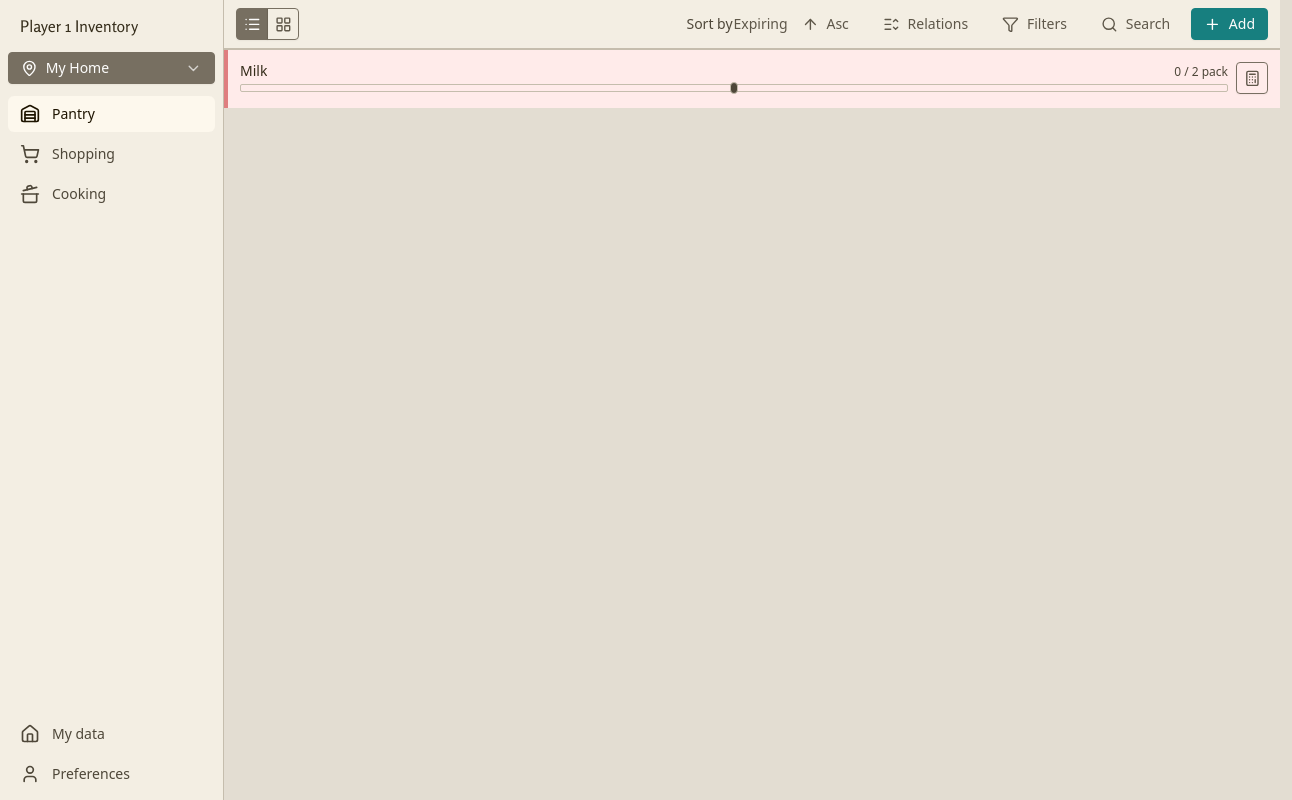
Home page filtering integration › user sees a no-match message, not a blank list, when the pantry HAS items and a filter excludes every one
This screenshot has width=1292, height=800.
expect the heading "Milk" is shown: met, box [240,62,267,80]
# When the user turns on the Vegetables filter, which no item matches
Step 1. Click the button with aria-label "toggle filters" → [1035, 24], box [989,8,1080,40]
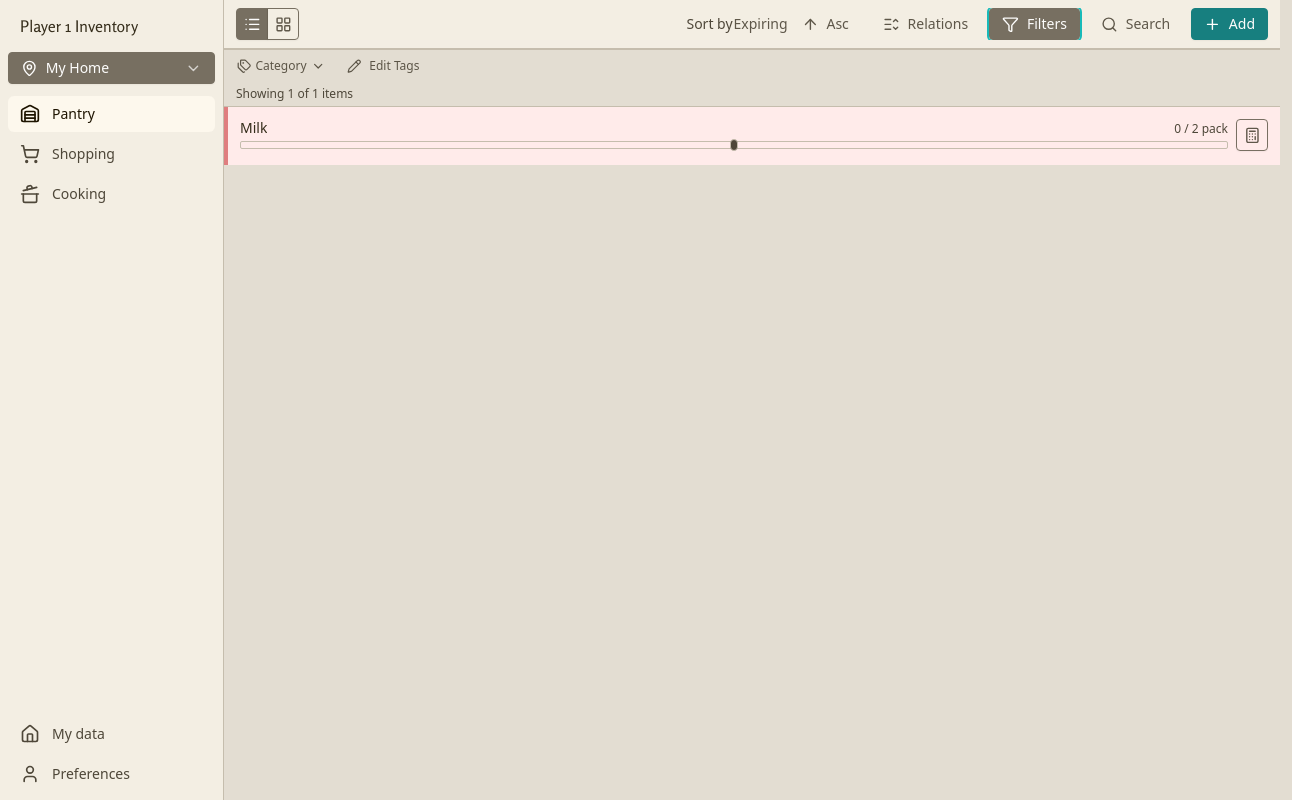
Step 2. Click the button "Category" → [281, 66], box [228,54,334,78]
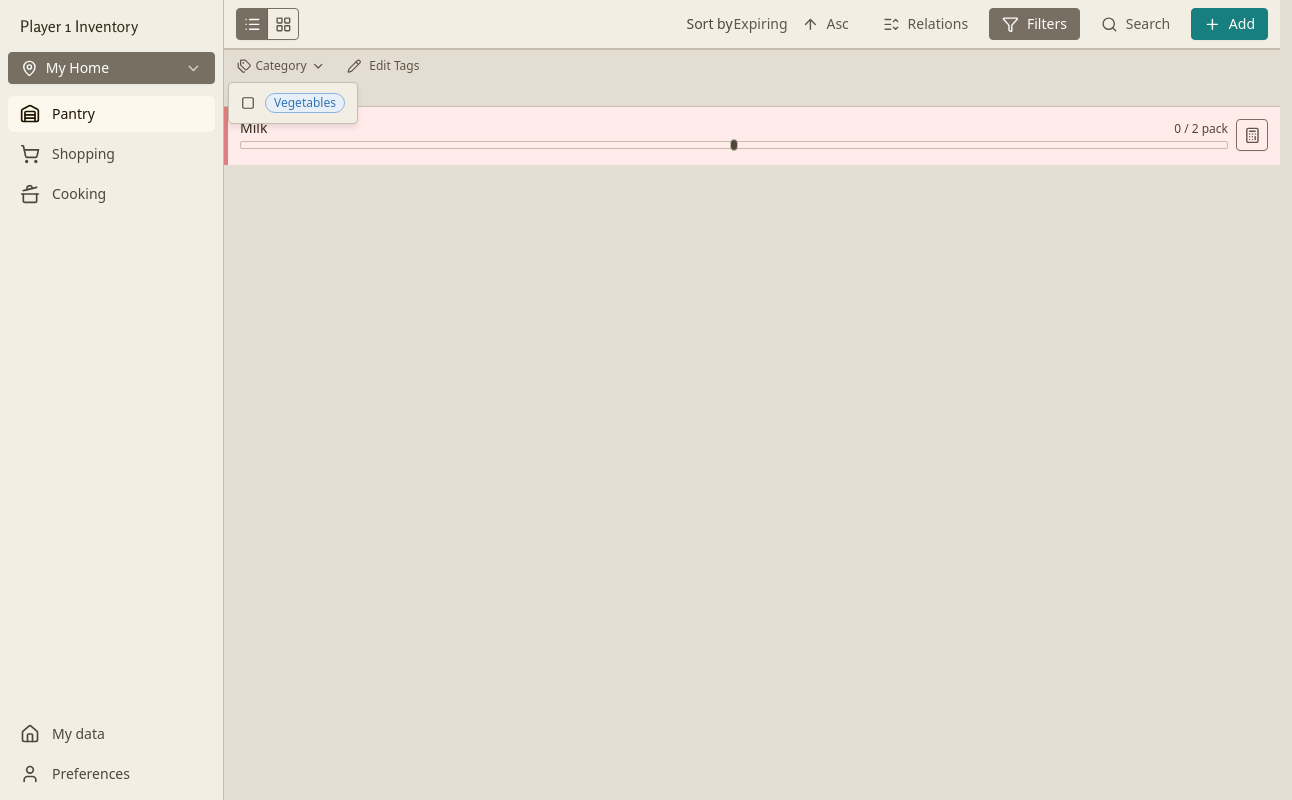
Step 3. Click the menu item "Vegetables" → [293, 103], box [233,87,353,119]
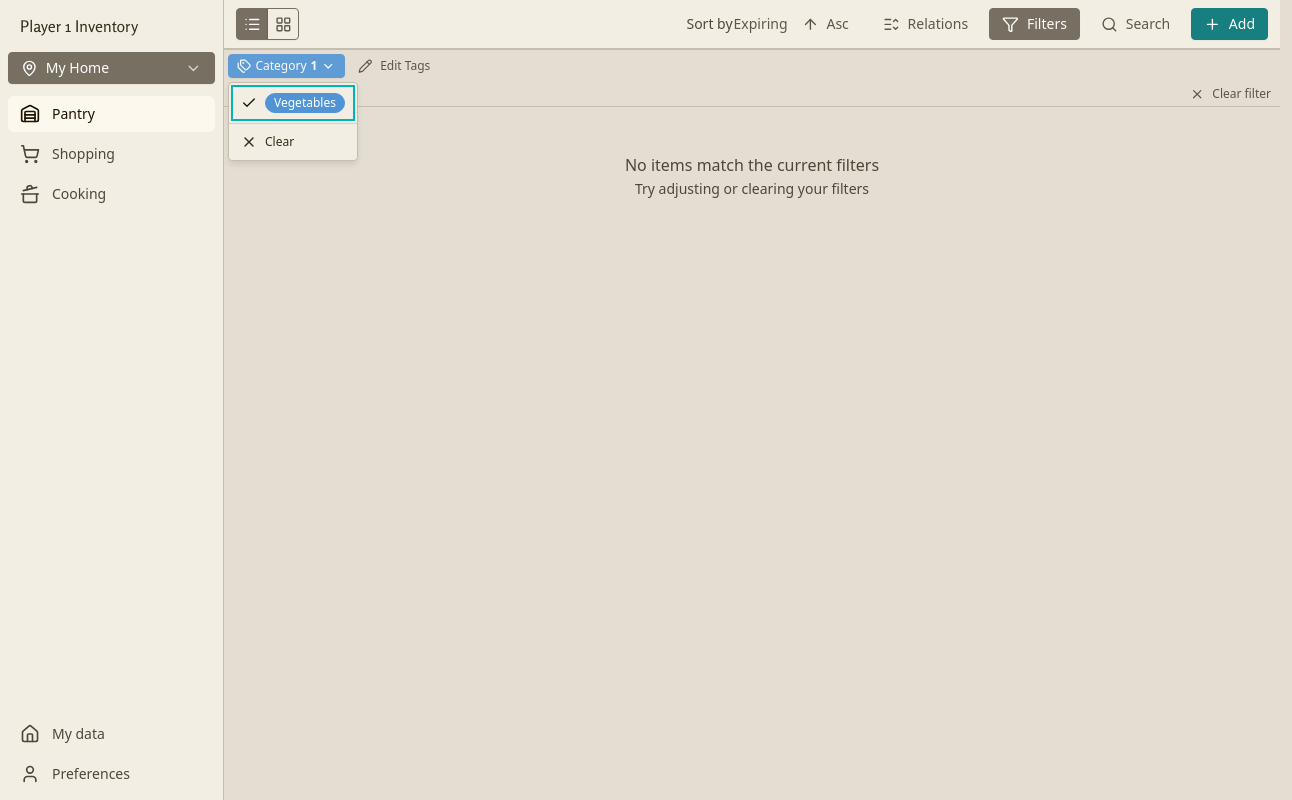
expect the text "No items match the current filters" is shown: met, box [625,154,879,176]
expect the text "Try adjusting or clearing your filters" is shown: met, box [635,179,869,198]
expect the link "Milk" is gone: met
